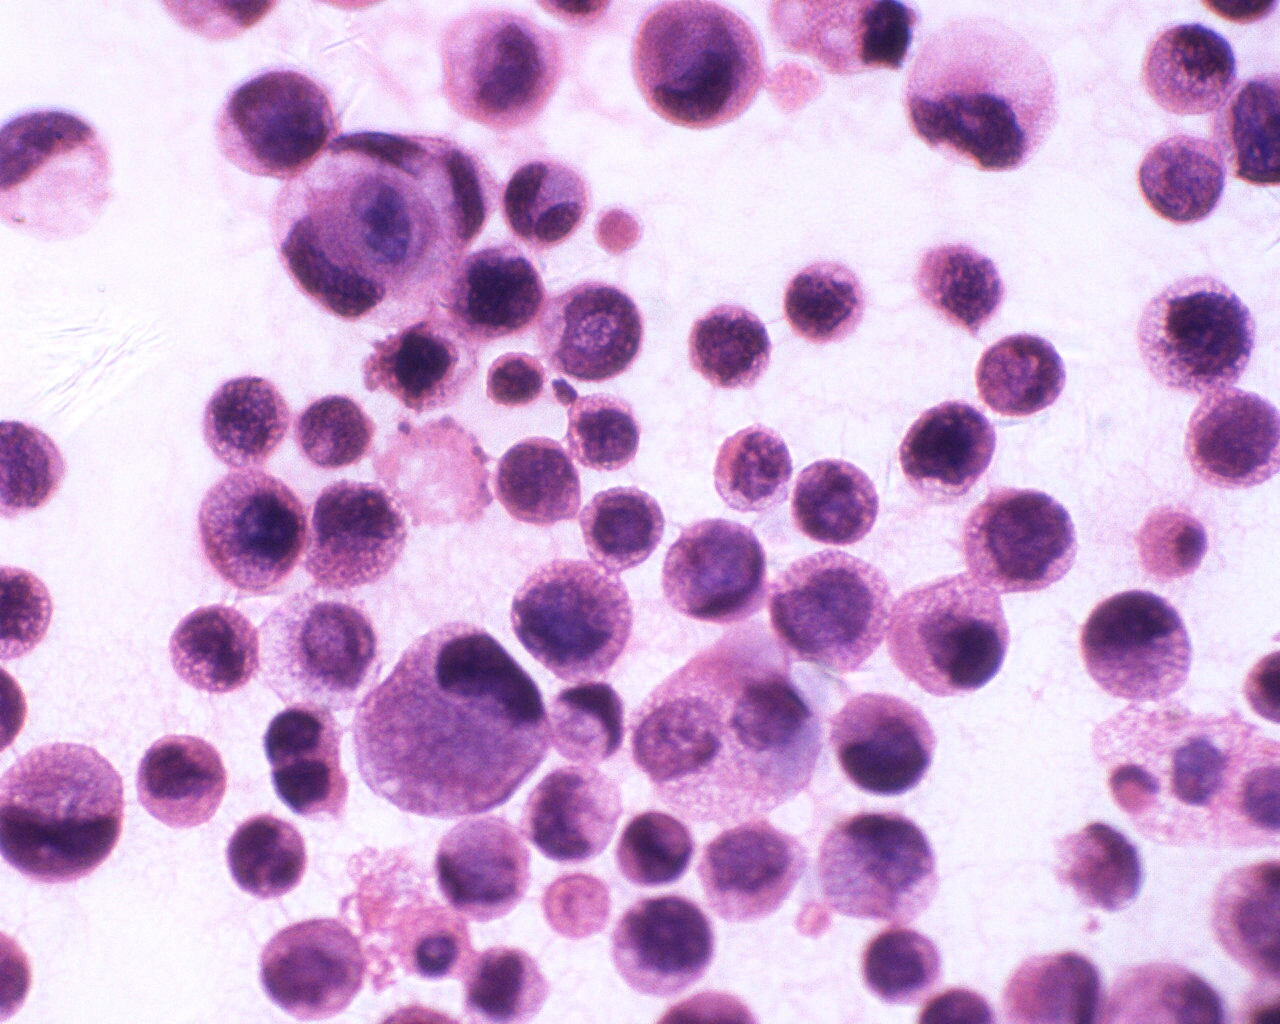ab: (900, 15, 1061, 177), (213, 59, 335, 181), (1073, 586, 1196, 704), (1137, 270, 1260, 385), (655, 519, 772, 628), (967, 484, 1076, 596), (608, 891, 721, 999), (830, 694, 939, 799), (261, 700, 355, 822), (901, 392, 999, 506), (1180, 383, 1280, 491), (444, 241, 544, 341), (1135, 130, 1231, 230), (138, 732, 229, 834), (205, 370, 295, 471), (791, 451, 886, 546), (491, 435, 586, 529), (684, 297, 776, 392), (170, 603, 262, 697), (220, 812, 312, 903), (577, 483, 664, 574), (782, 260, 868, 347), (860, 921, 946, 1008), (292, 389, 378, 472), (615, 806, 698, 891), (562, 389, 643, 476)
histo: (353, 620, 550, 818)
meso: (395, 905, 476, 984), (1131, 507, 1212, 583)
